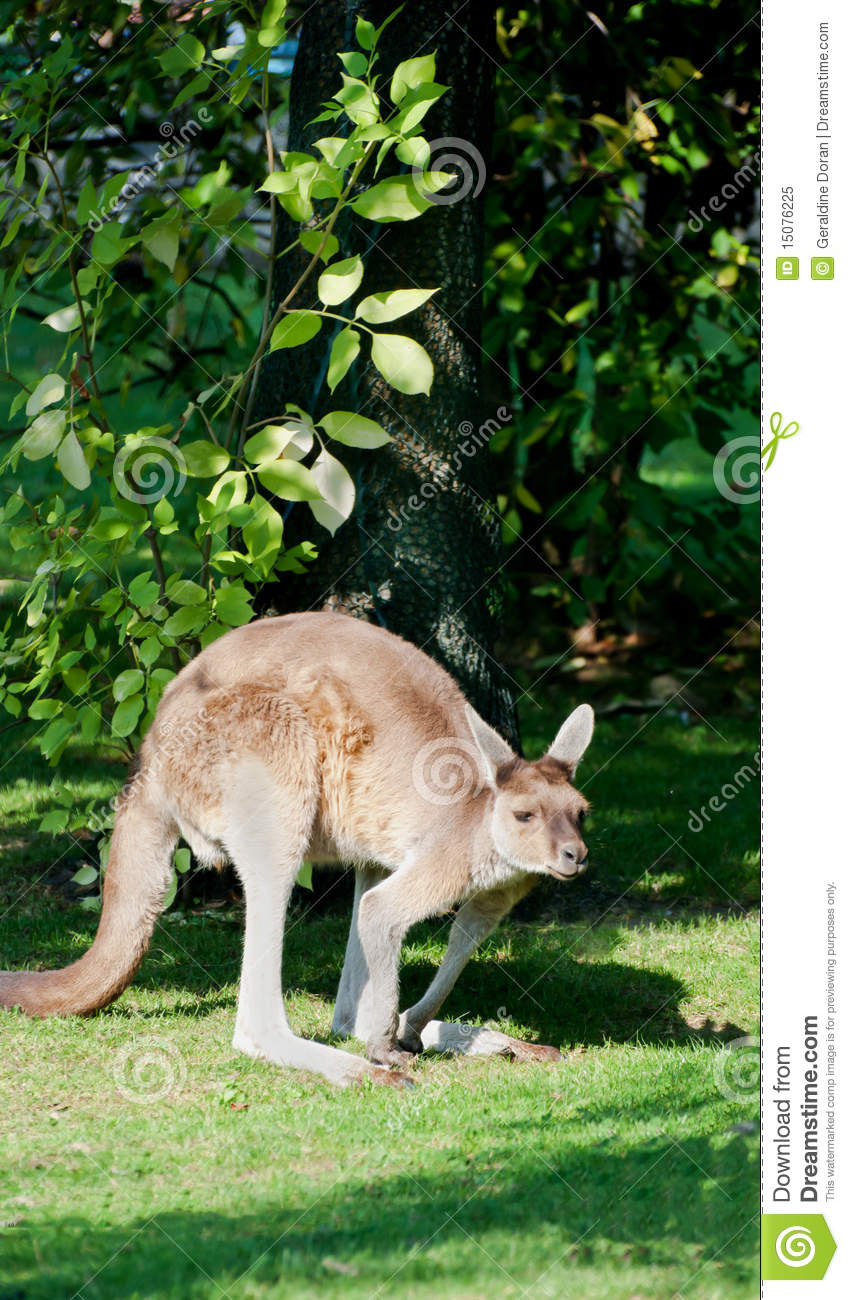kangaroo: (4, 612, 617, 1086)
